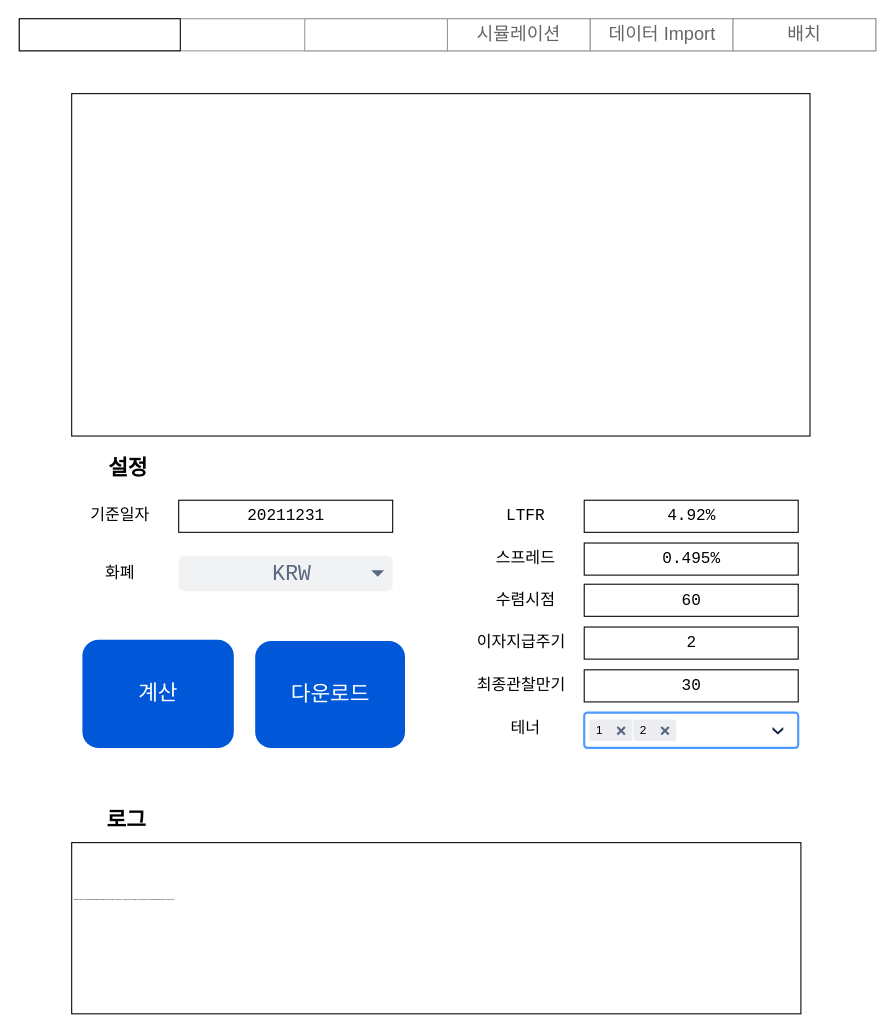
Image size: 895x1033. Some labels were removed from this diagram. Each missing label, with the centre of its shape:
"그래프" goes at pixel 440 264.
"로고" goes at pixel 99 34.
